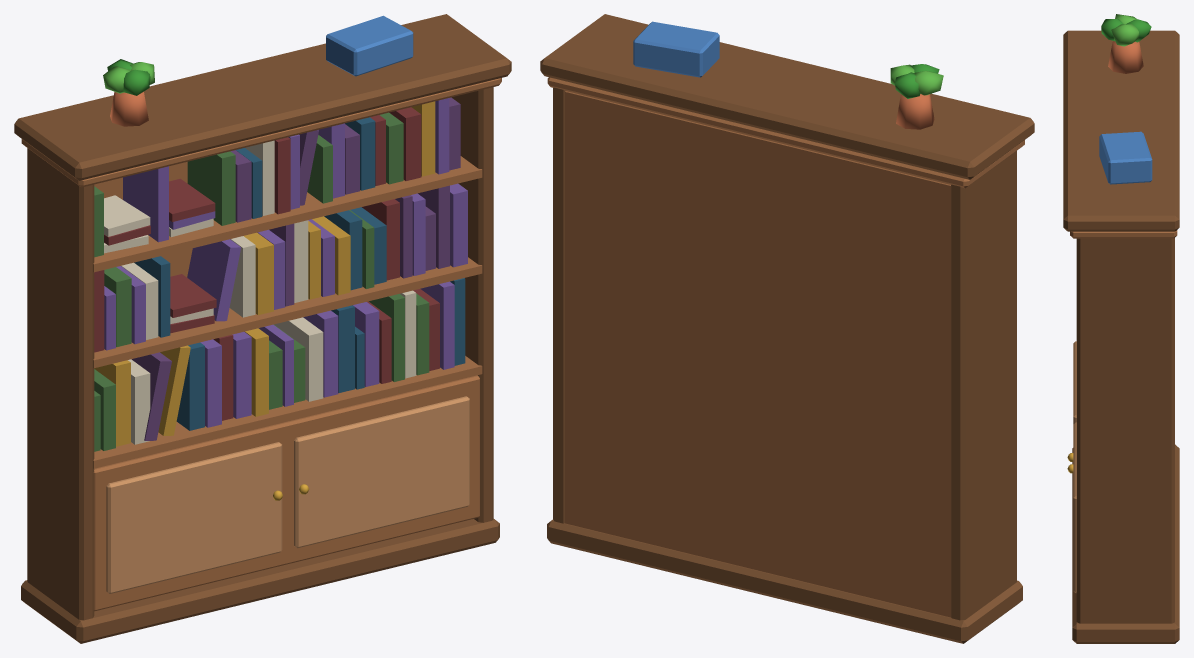
File: bookcase.glb
3 renders of one model, left to right at view 1: azimuth 30°, elevation 25°; view 2: azimuth 150°, elevation 25°; view 3: azimuth 270°, elevation 25°, orthographic. The views are drawn at different scales.
Parts seen in each view (by area): view 1: bookcase; view 2: bookcase; view 3: bookcase.
Part boxes in pixels (x1,y1,x2,y2): bookcase: (14,14,511,643); bookcase: (540,14,1034,643); bookcase: (1063,14,1179,643).
Size of the model in its own units: 2 by 2.36 by 0.52.
